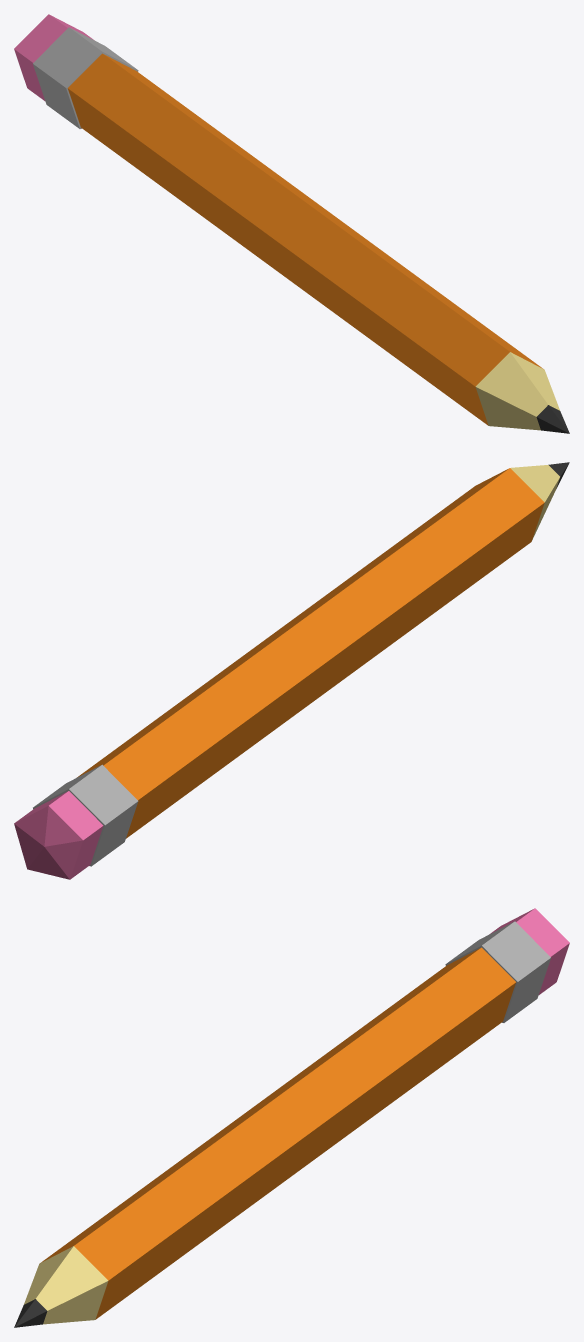
File: Pencil.fbx
The picture shows the model from 3 angles, top to bottom: view 1: azimuth 30°, elevation 25°; view 2: azimuth 150°, elevation 25°; view 3: azimuth 330°, elevation 25°; orthographic projection.
Visible parts, largest first — view 1: Pencil; view 2: Pencil; view 3: Pencil.
Boxes of the visible parts, <box> form: Pencil: <box>14,14,569,433</box>; Pencil: <box>14,462,569,879</box>; Pencil: <box>14,908,569,1327</box>.
Bounding box in the file's own units: 25.34 × 24.1 × 318.
